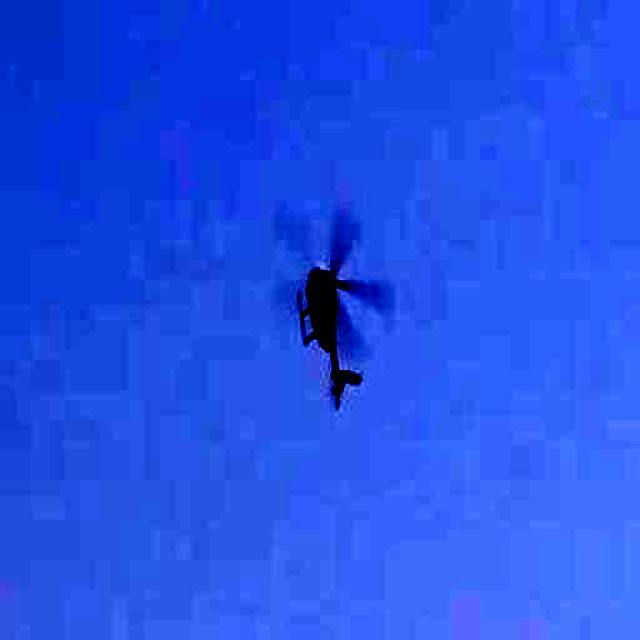drone: (229, 189, 412, 445)
